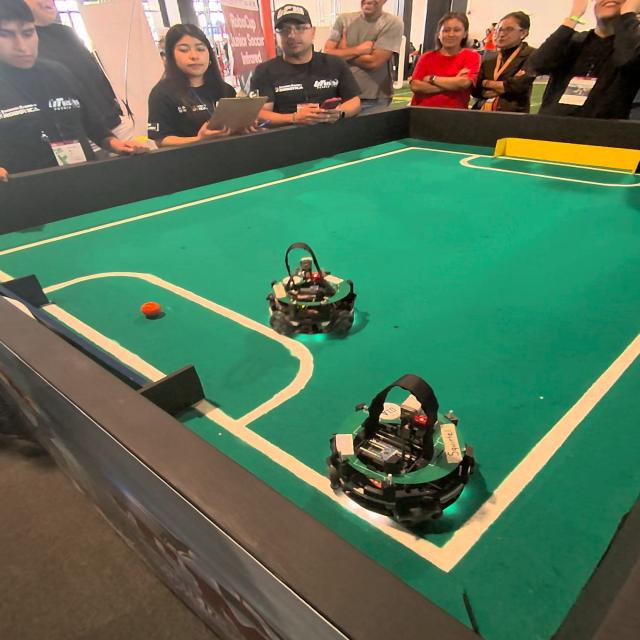Robot: (341, 366, 496, 548), (266, 237, 363, 344)
pelota: (141, 304, 162, 320)
